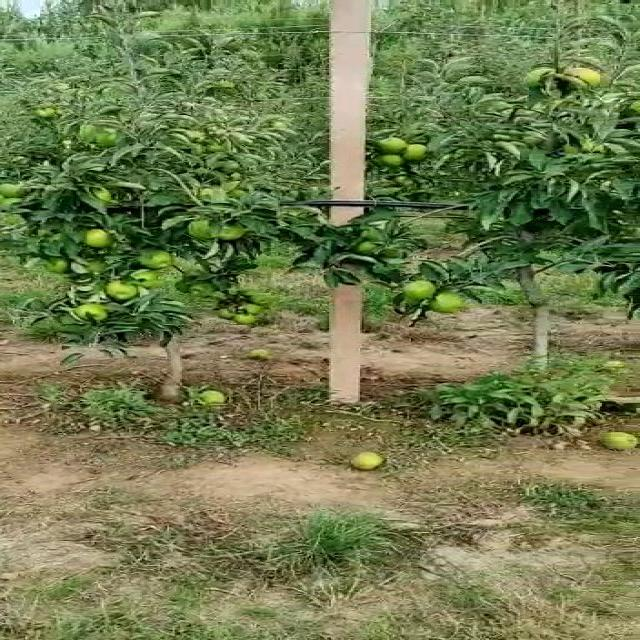100-_ripeness: (76, 120, 124, 147), (515, 69, 560, 89), (394, 142, 434, 164), (422, 293, 464, 313), (560, 70, 600, 90), (134, 250, 172, 271), (102, 281, 140, 302), (402, 280, 440, 300), (371, 135, 409, 153), (71, 301, 105, 320), (186, 220, 214, 238), (211, 224, 240, 241), (371, 152, 402, 167), (89, 231, 111, 250), (131, 269, 151, 287), (47, 262, 71, 276), (2, 183, 20, 198)
